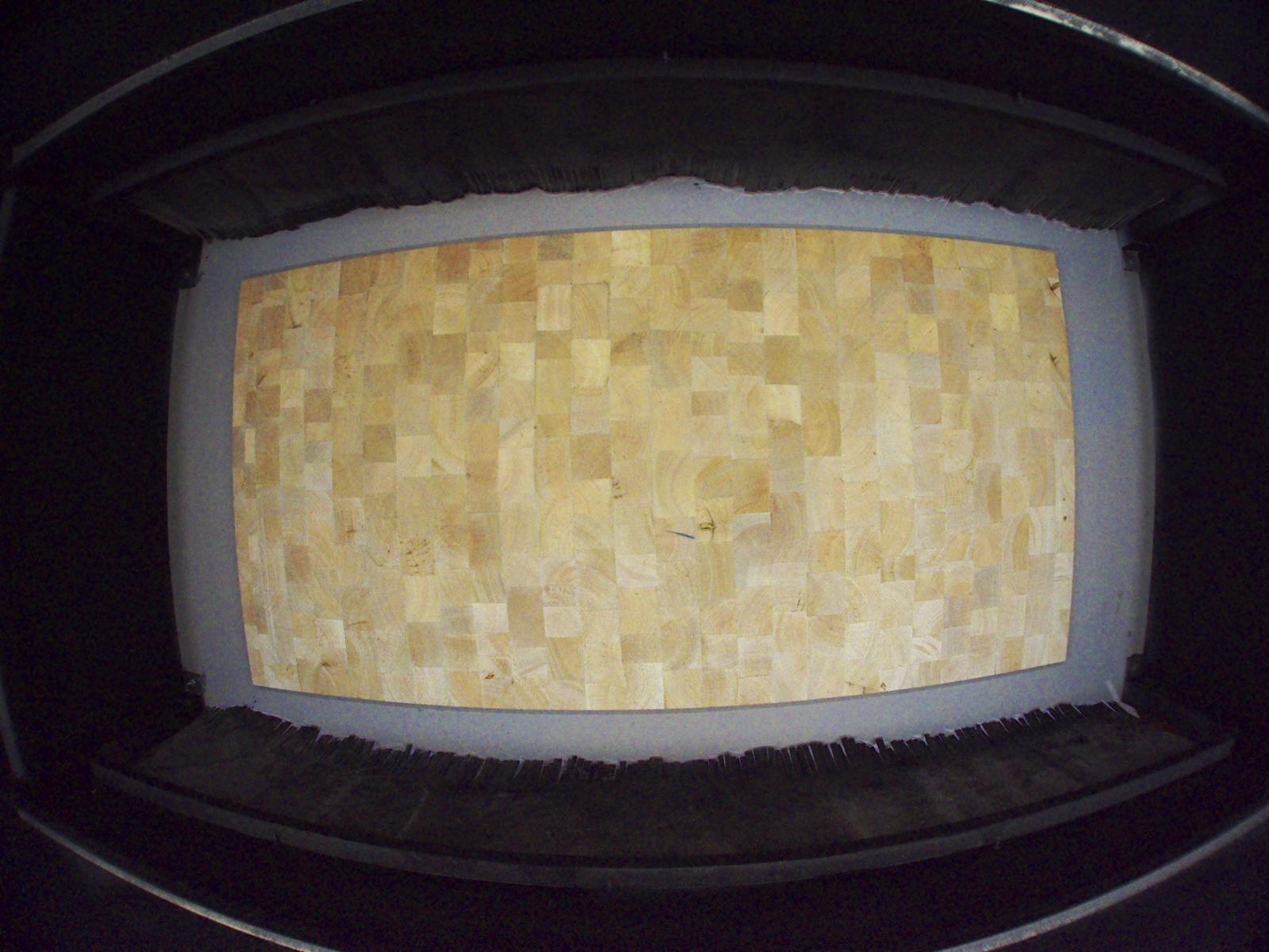sheck_ecuatoriano: (698, 500, 718, 544), (1046, 276, 1063, 305), (1048, 350, 1061, 372)
